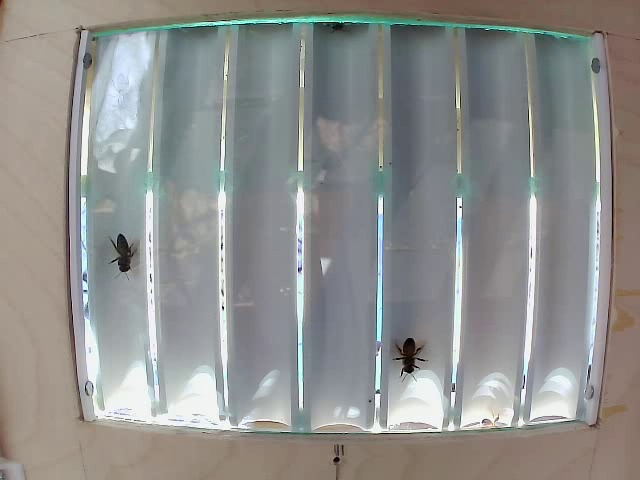bee: (391, 333, 447, 389), (109, 240, 141, 286)
